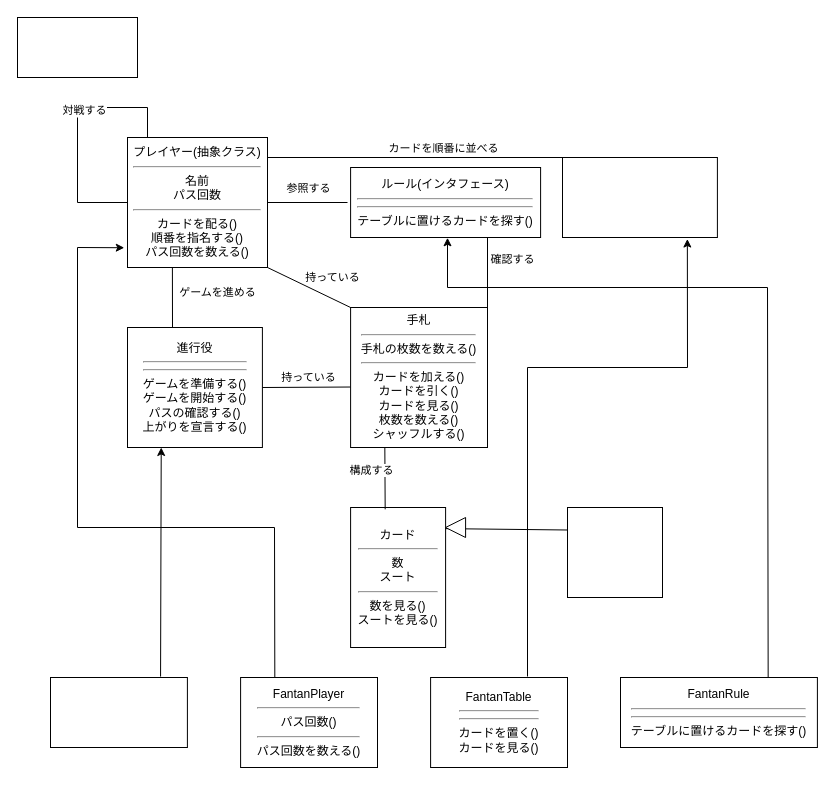
Some shapes in this 835 by 785 pixel diagram are drawn without their labels. Here are the shapes that lost their labels. From the top down, the centre of each, then its label:
At point (77, 47): "Work9_1".
At point (639, 197): "テーブル(インタフェース) カードを置く() カードを見る()".
At point (614, 552): "ジョーカー 数字の変更() スートの変更()".
At point (118, 712): "FantanMaster パスを宣言する()".
